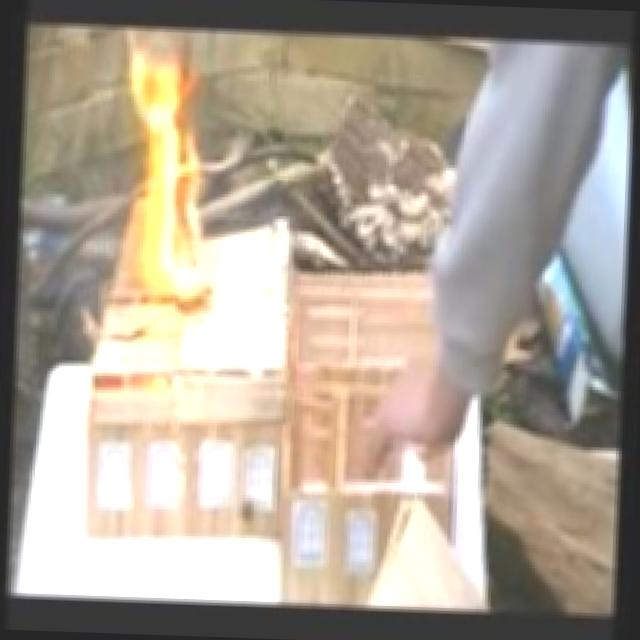fire: (115, 52, 224, 303)
